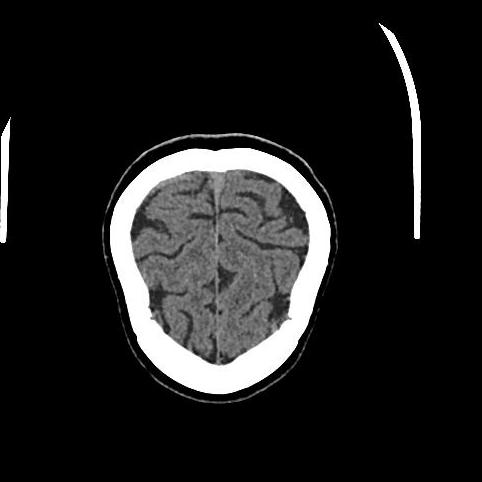Normal_Brain: (99, 132, 346, 405)
